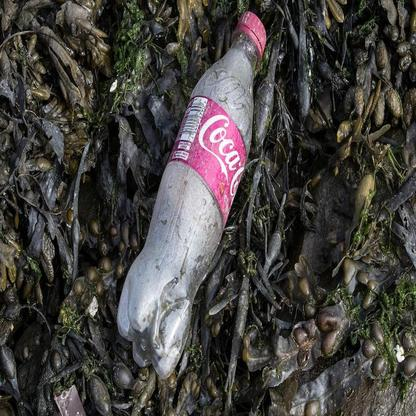plastic bottle: (116, 10, 268, 375)
